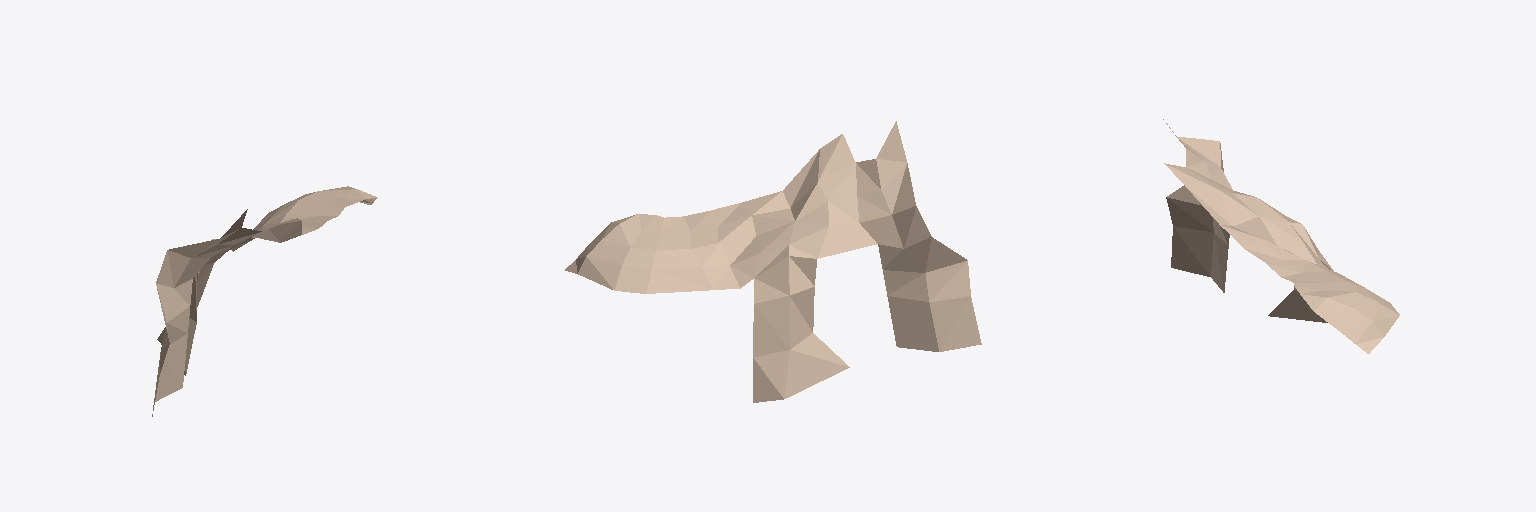
Rendered from Moss VFX Test Small Patch.obj.
The picture shows the model from 3 angles: view 1: azimuth 30°, elevation 25°; view 2: azimuth 150°, elevation 25°; view 3: azimuth 270°, elevation 25°; orthographic projection.
Parts seen in each view (by area): view 1: Moss VFX Test Small Patch; view 2: Moss VFX Test Small Patch; view 3: Moss VFX Test Small Patch.
Part boxes in pixels (bbox=[...]): Moss VFX Test Small Patch: bbox=[152, 186, 377, 416]; Moss VFX Test Small Patch: bbox=[565, 121, 981, 402]; Moss VFX Test Small Patch: bbox=[1163, 119, 1399, 353].
Bounding box in the file's own units: 25.32 × 16.43 × 16.55.